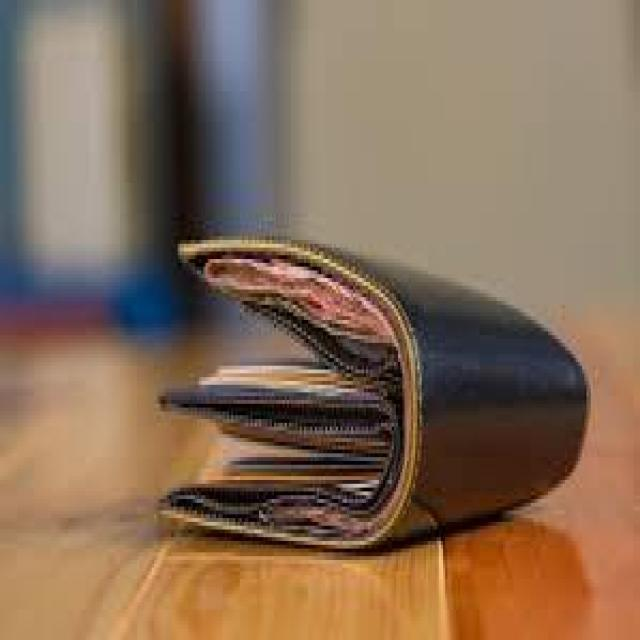cuzdan: (148, 177, 598, 589)
